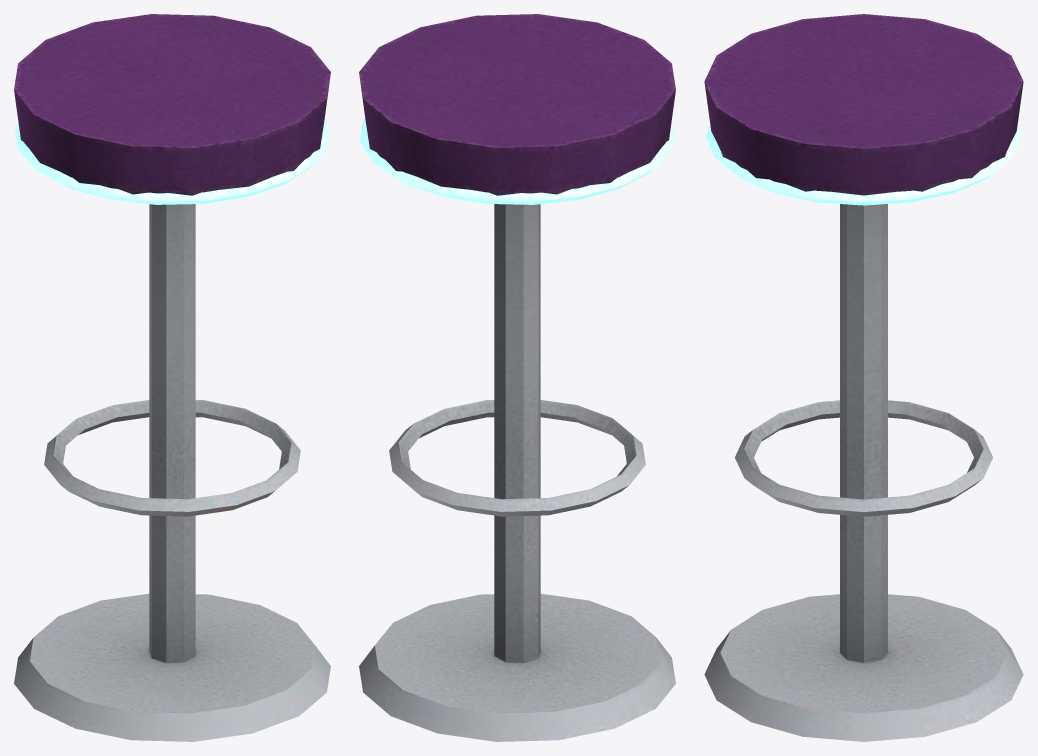
Rendered from banqueta_neon.glb.
3 renders of one model, left to right at view 1: azimuth 30°, elevation 25°; view 2: azimuth 150°, elevation 25°; view 3: azimuth 270°, elevation 25°, orthographic.
Parts seen in each view (by area): view 1: banqueta_neon; view 2: banqueta_neon; view 3: banqueta_neon.
Boxes of the visible parts, left/top/right/bottom form: banqueta_neon: left=14, top=14, right=330, bottom=741; banqueta_neon: left=359, top=14, right=675, bottom=741; banqueta_neon: left=704, top=14, right=1023, bottom=741.
Bounding box in the file's own units: 0.4 × 0.82 × 0.4.
1 material, 1 textured.
